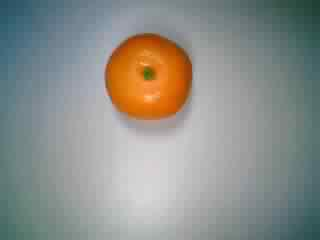orange: (100, 24, 195, 126)
